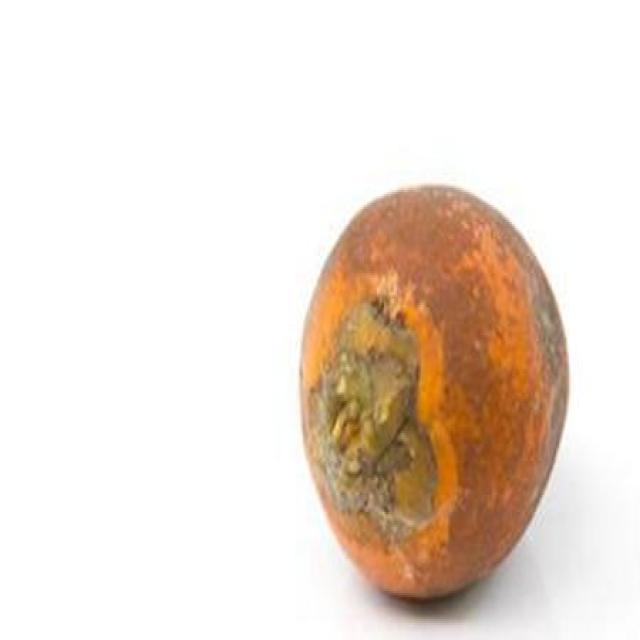good: (302, 188, 567, 595)
